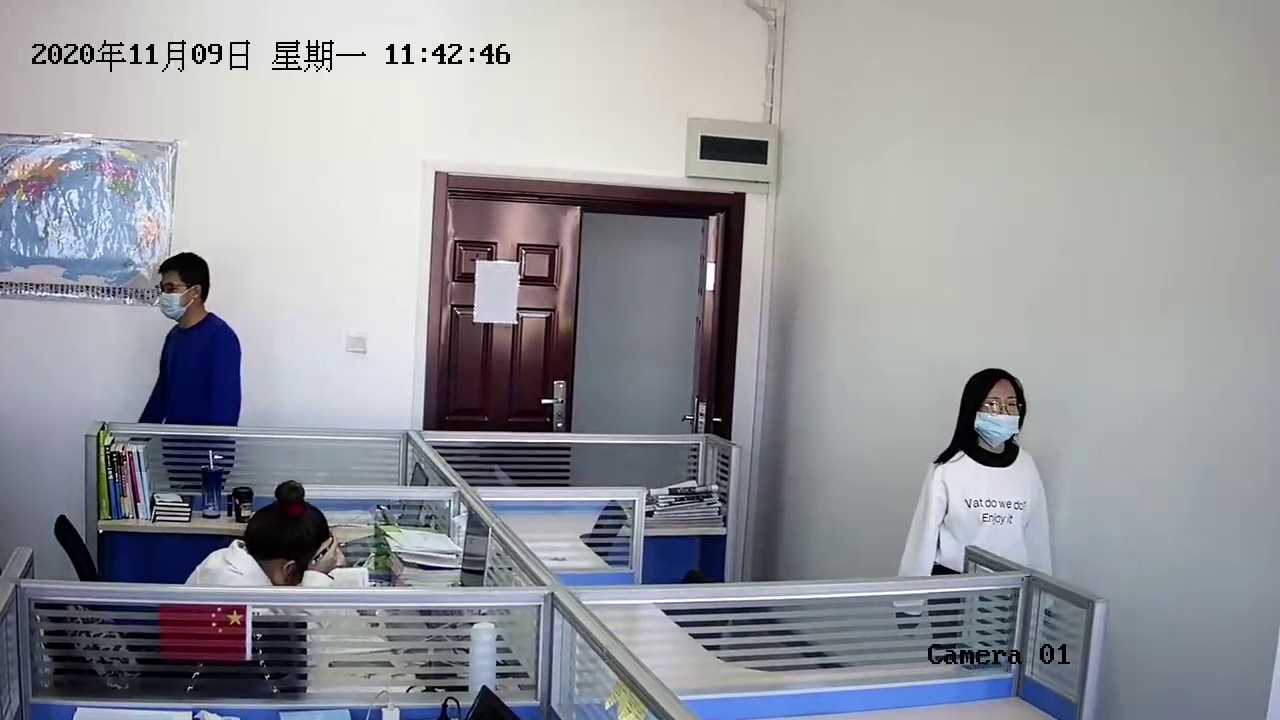mask: (963, 373, 1025, 454), (158, 258, 202, 327)
